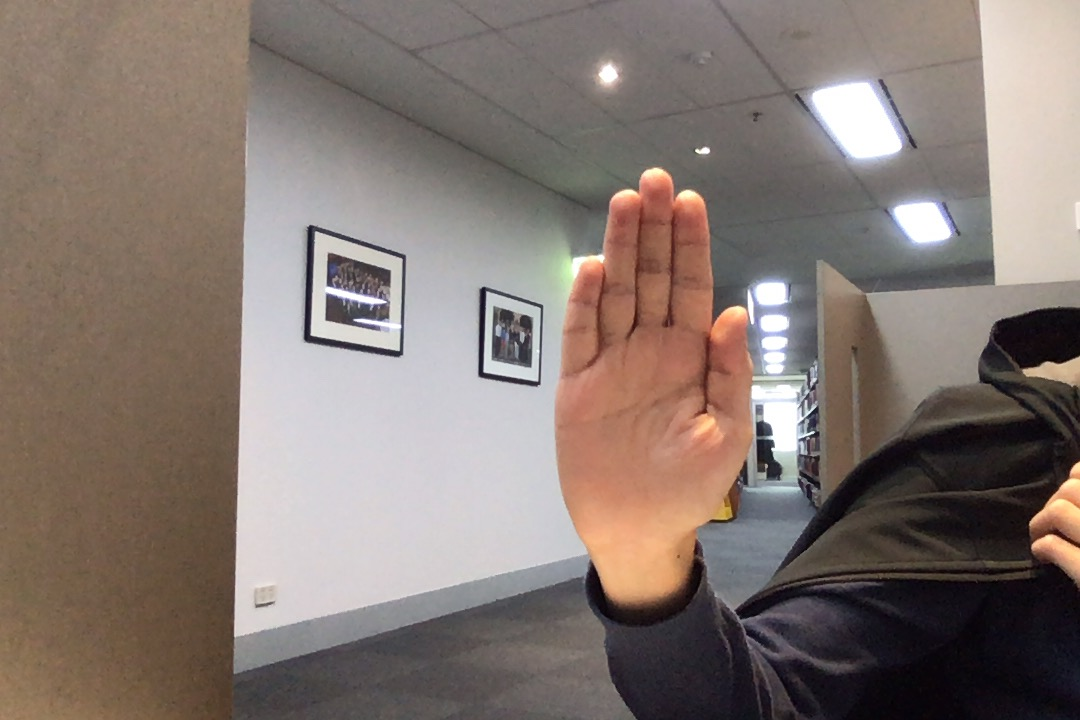palmhand: (540, 156, 769, 562)
